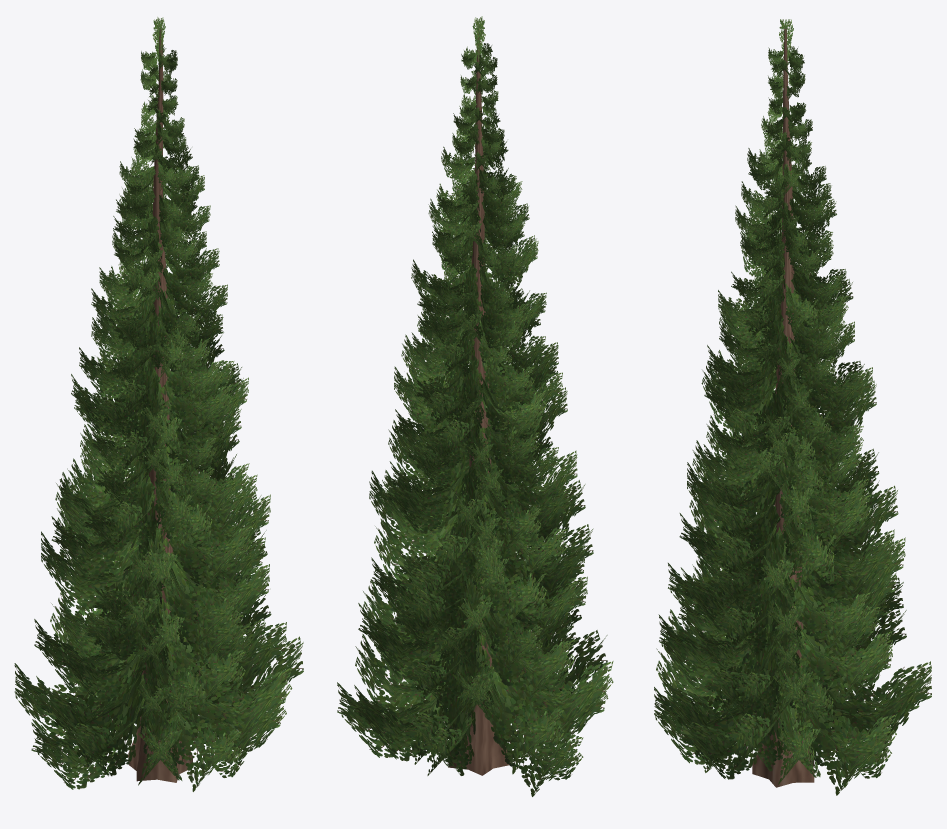
Rendered from veg_western_red_cedar_a.fbx.
The picture shows the model from 3 angles, left to right: view 1: azimuth 30°, elevation 25°; view 2: azimuth 150°, elevation 25°; view 3: azimuth 270°, elevation 25°; orthographic projection.
Visible parts, largest first — view 1: veg_western_red_cedar_a_LOD0; view 2: veg_western_red_cedar_a_LOD0; view 3: veg_western_red_cedar_a_LOD0.
Part boxes in pixels (bbox=[...]): veg_western_red_cedar_a_LOD0: bbox=[14, 17, 303, 791]; veg_western_red_cedar_a_LOD0: bbox=[337, 16, 613, 796]; veg_western_red_cedar_a_LOD0: bbox=[654, 19, 931, 795].
Size of what is drawn, in the model's own units: 9.35 by 27.39 by 9.12.
2 materials, 2 textured.
